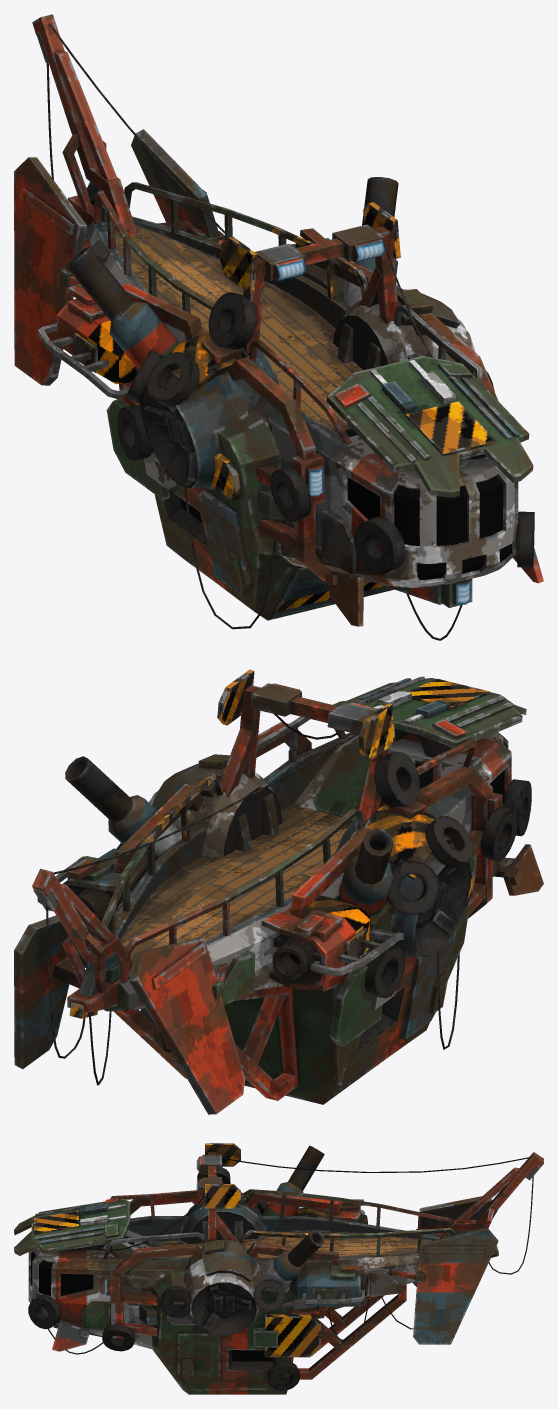
The model's file is Junker.FBX.
The picture shows the model from 3 angles, top to bottom: view 1: azimuth 30°, elevation 25°; view 2: azimuth 150°, elevation 25°; view 3: azimuth 270°, elevation 25°; orthographic projection. The views are drawn at different scales.
Parts seen in each view (by area): view 1: SkyFloater_Junker001; view 2: SkyFloater_Junker001; view 3: SkyFloater_Junker001.
Boxes of the visible parts, x1=… form: SkyFloater_Junker001: x1=14, y1=14, x2=543, y2=640; SkyFloater_Junker001: x1=14, y1=669, x2=543, y2=1114; SkyFloater_Junker001: x1=14, y1=1143, x2=543, y2=1394.
Size of the model in its own units: 19.07 by 20.69 by 45.04.
1 material, 1 textured.
